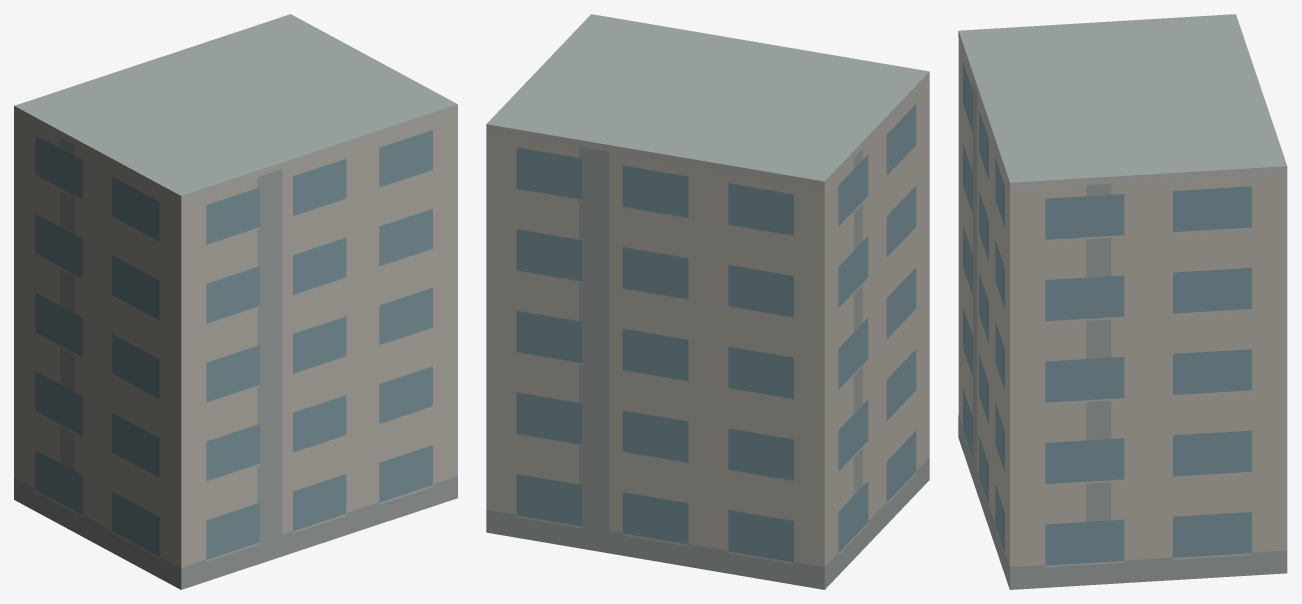
File: survey-upis-32726711.glb
The picture shows the model from 3 angles, left to right: view 1: azimuth 30°, elevation 25°; view 2: azimuth 150°, elevation 25°; view 3: azimuth 270°, elevation 25°; orthographic projection. The views are drawn at different scales.
Parts seen in each view (by area): view 1: survey-upis-32726711.tmp; view 2: survey-upis-32726711.tmp; view 3: survey-upis-32726711.tmp.
Part boxes in pixels (x1,y1,x2,y2): survey-upis-32726711.tmp: (14,14,457,589); survey-upis-32726711.tmp: (486,14,929,589); survey-upis-32726711.tmp: (958,14,1287,589).
Size of the model in its own units: 12.45 by 14 by 10.26.
